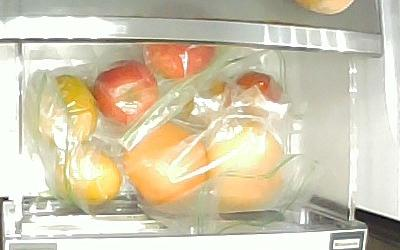apple_vinyl: (91, 61, 158, 124), (145, 44, 216, 80)
grapefruit_vinyl: (123, 122, 207, 204), (207, 124, 285, 207)
persimmon_vinyl: (38, 75, 98, 146), (56, 150, 122, 204)
prune_vinyl: (237, 71, 285, 118)
